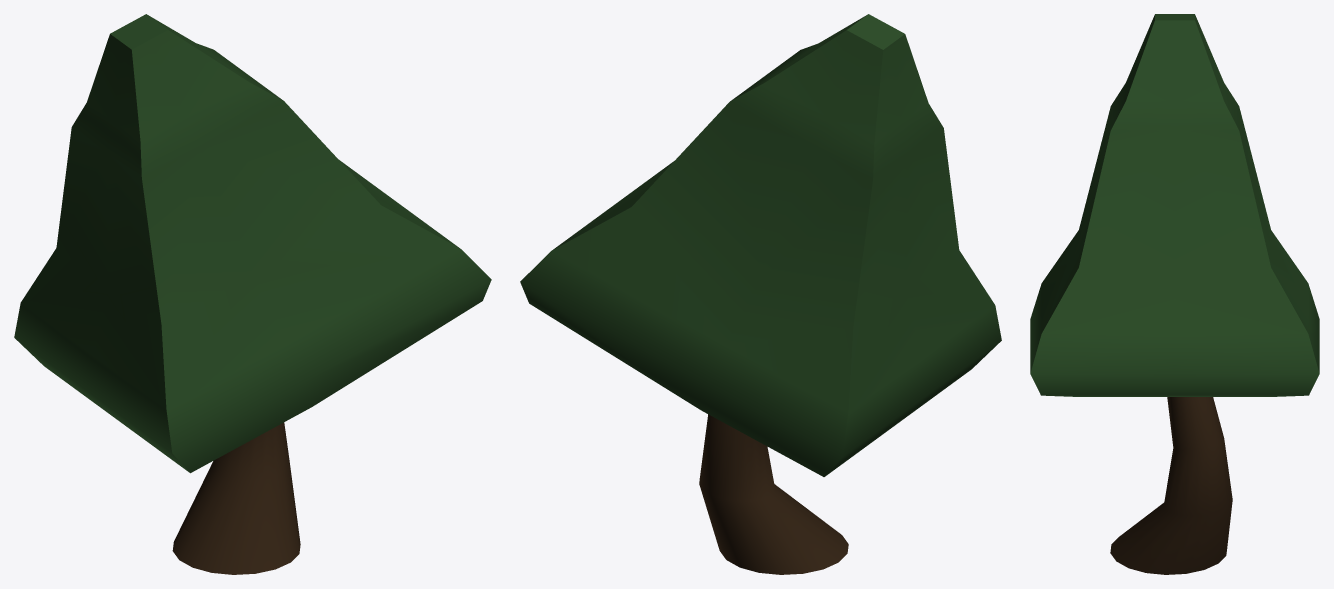
Rendered from tree05.fbx.
3 renders of one model, left to right at view 1: azimuth 30°, elevation 25°; view 2: azimuth 150°, elevation 25°; view 3: azimuth 270°, elevation 25°, orthographic. The views are drawn at different scales.
Parts seen in each view (by area): view 1: pCube6; view 2: pCube6; view 3: pCube6.
Part boxes in pixels (x1,y1,x2,y2): pCube6: [14, 14, 491, 574]; pCube6: [520, 14, 1001, 574]; pCube6: [1030, 14, 1319, 574].
Bounding box in the file's own units: 1.99 × 3.23 × 1.71.
